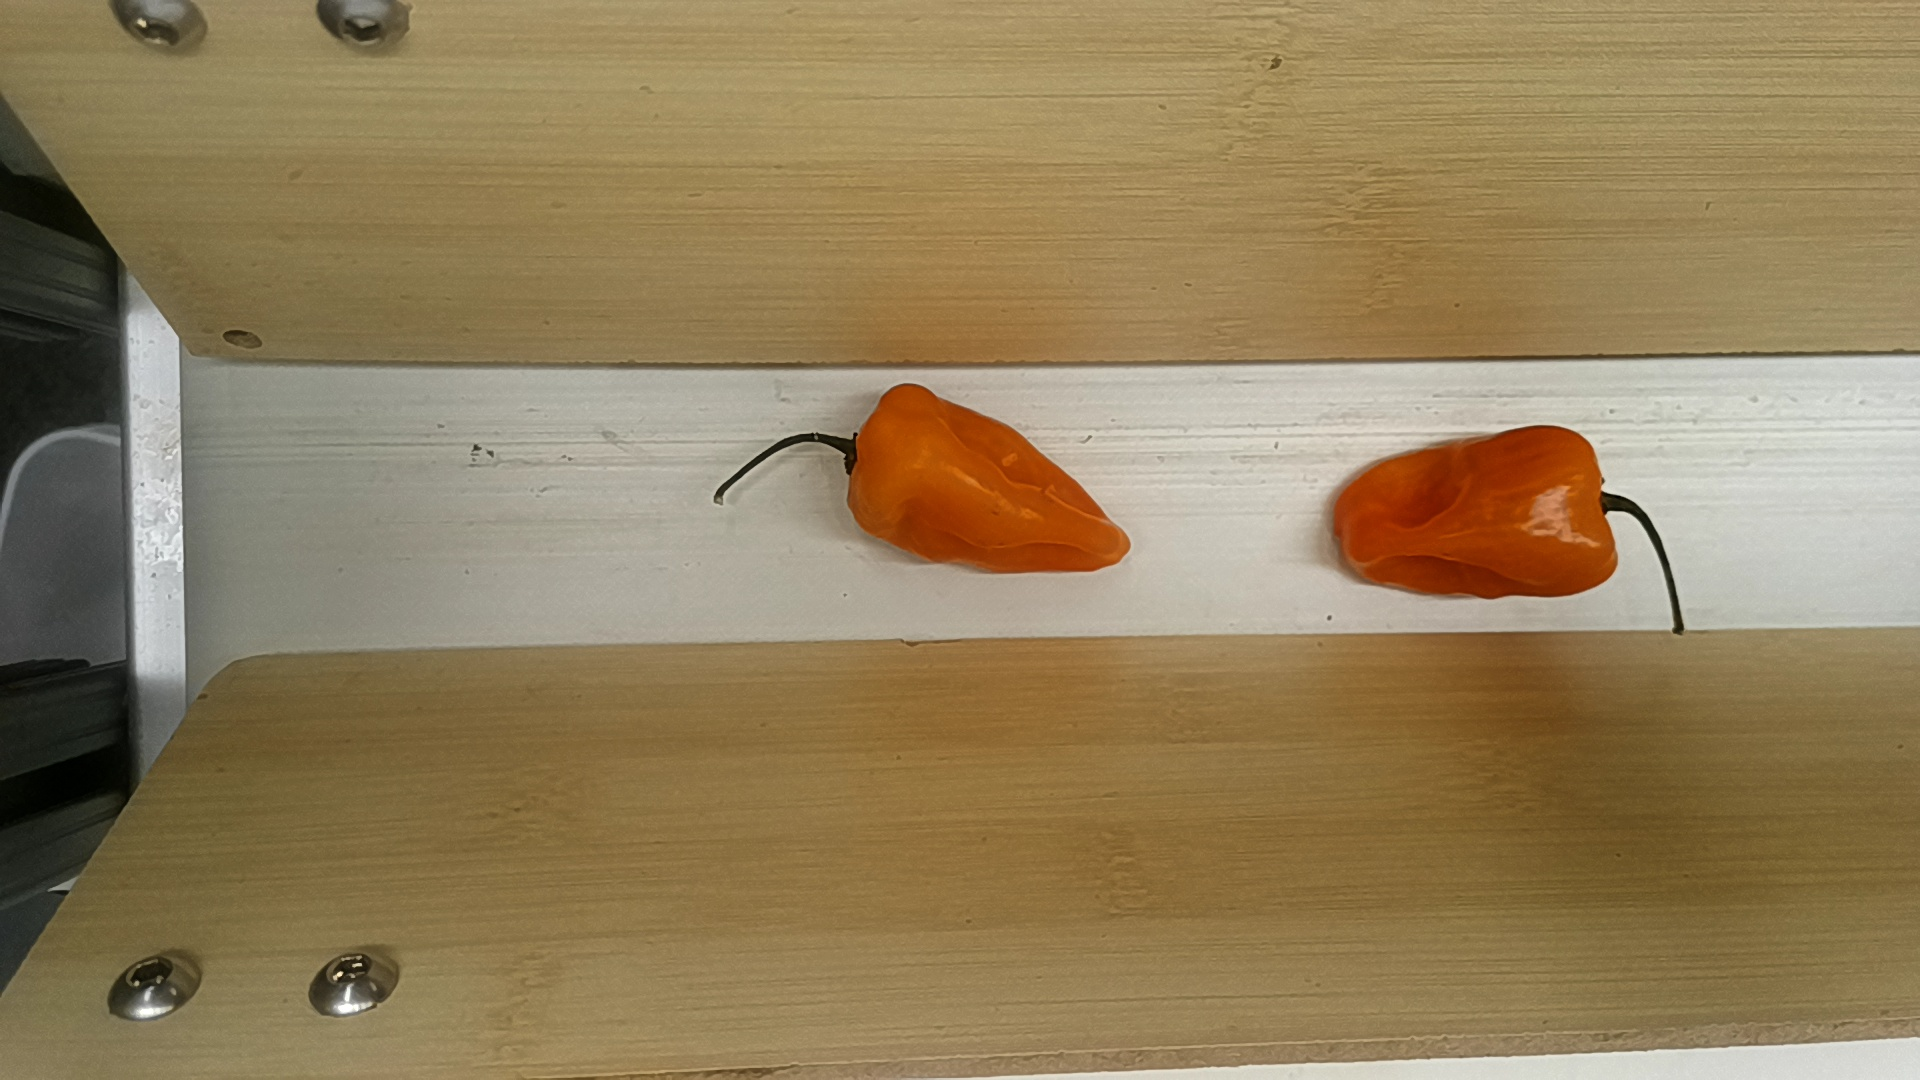Cut Point: (836, 382, 891, 546), (1571, 422, 1621, 591)
